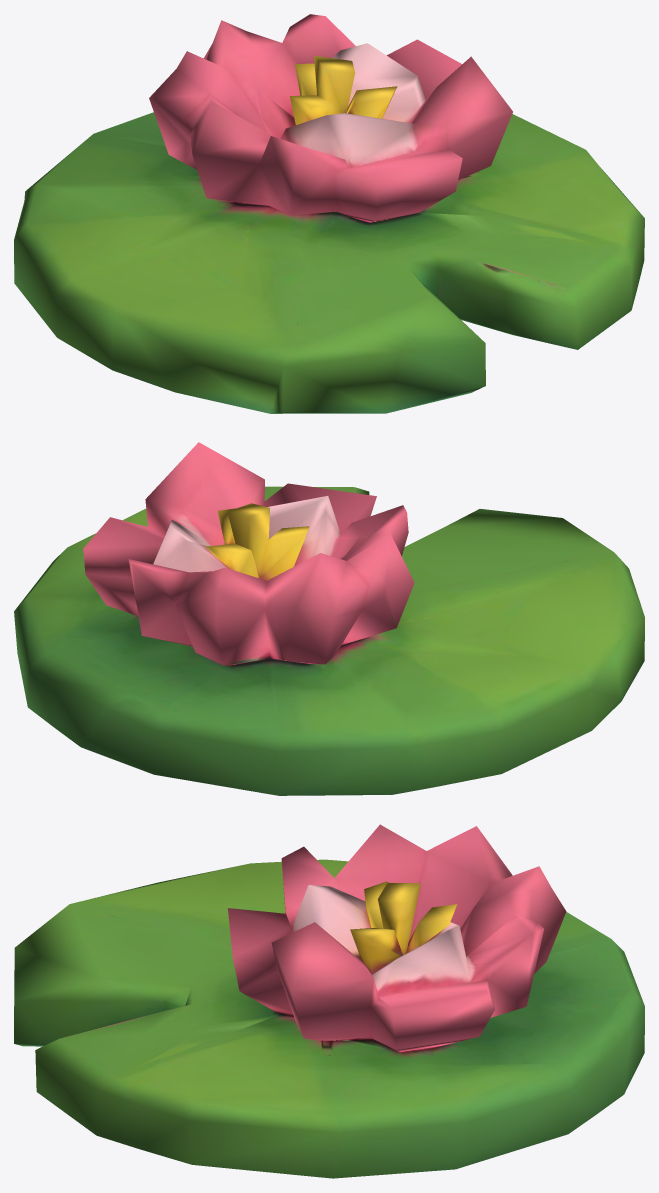
Rendered from lilypad.glb.
The picture shows the model from 3 angles, top to bottom: view 1: azimuth 30°, elevation 25°; view 2: azimuth 150°, elevation 25°; view 3: azimuth 270°, elevation 25°; orthographic projection.
Visible parts, largest first — view 1: tripo_node_335c2a4c-7706-486b-b163-c025a70bfe52; view 2: tripo_node_335c2a4c-7706-486b-b163-c025a70bfe52; view 3: tripo_node_335c2a4c-7706-486b-b163-c025a70bfe52.
Boxes of the visible parts, bbox=[...] form: tripo_node_335c2a4c-7706-486b-b163-c025a70bfe52: bbox=[14, 14, 644, 413]; tripo_node_335c2a4c-7706-486b-b163-c025a70bfe52: bbox=[14, 442, 644, 795]; tripo_node_335c2a4c-7706-486b-b163-c025a70bfe52: bbox=[14, 824, 644, 1178].
Size of the model in its own units: 0.9952 by 0.3424 by 0.9972.
Materials: 1 (1 with a texture image).
